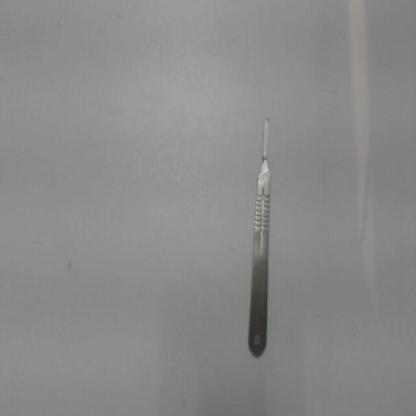No.4 BP Handle: (243, 113, 278, 366)
